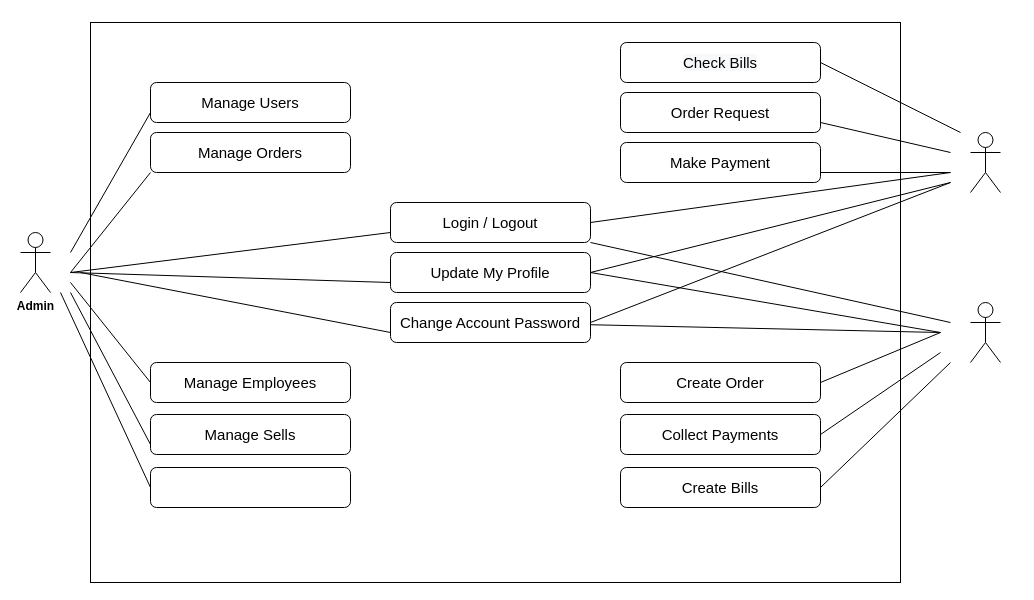
Some shapes in this 1034 by 600 pixel diagram are drawn without their labels. Each missing label, with the centre of its shape:
Customers: (985,162)
Manage Item Category: (250,487)
Waiters: (985,332)
